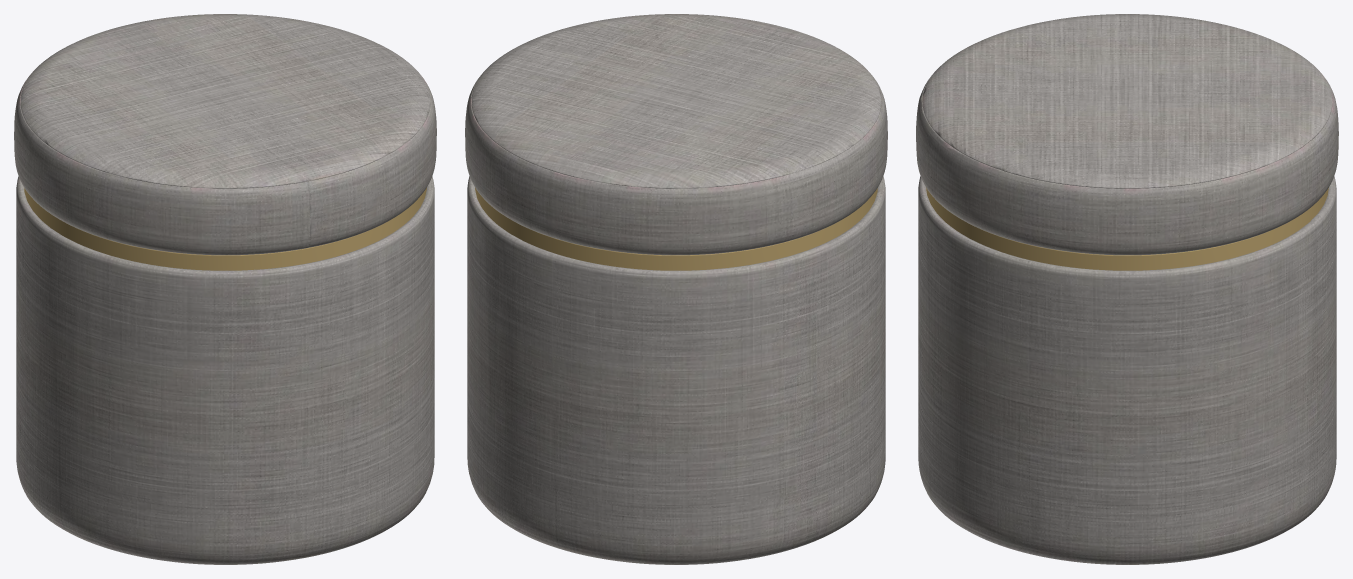
Rendered from B07QHYD4N5.glb.
3 views of the same model, side by side, from view 1: azimuth 30°, elevation 25°; view 2: azimuth 150°, elevation 25°; view 3: azimuth 270°, elevation 25° (orthographic).
Parts seen in each view (by area): view 1: RootNode; view 2: RootNode; view 3: RootNode.
Boxes of the visible parts, bbox=[...] form: RootNode: bbox=[14, 14, 436, 564]; RootNode: bbox=[465, 14, 887, 564]; RootNode: bbox=[916, 14, 1338, 564].
Size of the model in its own units: 0.4 by 0.4064 by 0.4.
Materials: 1 (1 with a texture image).
